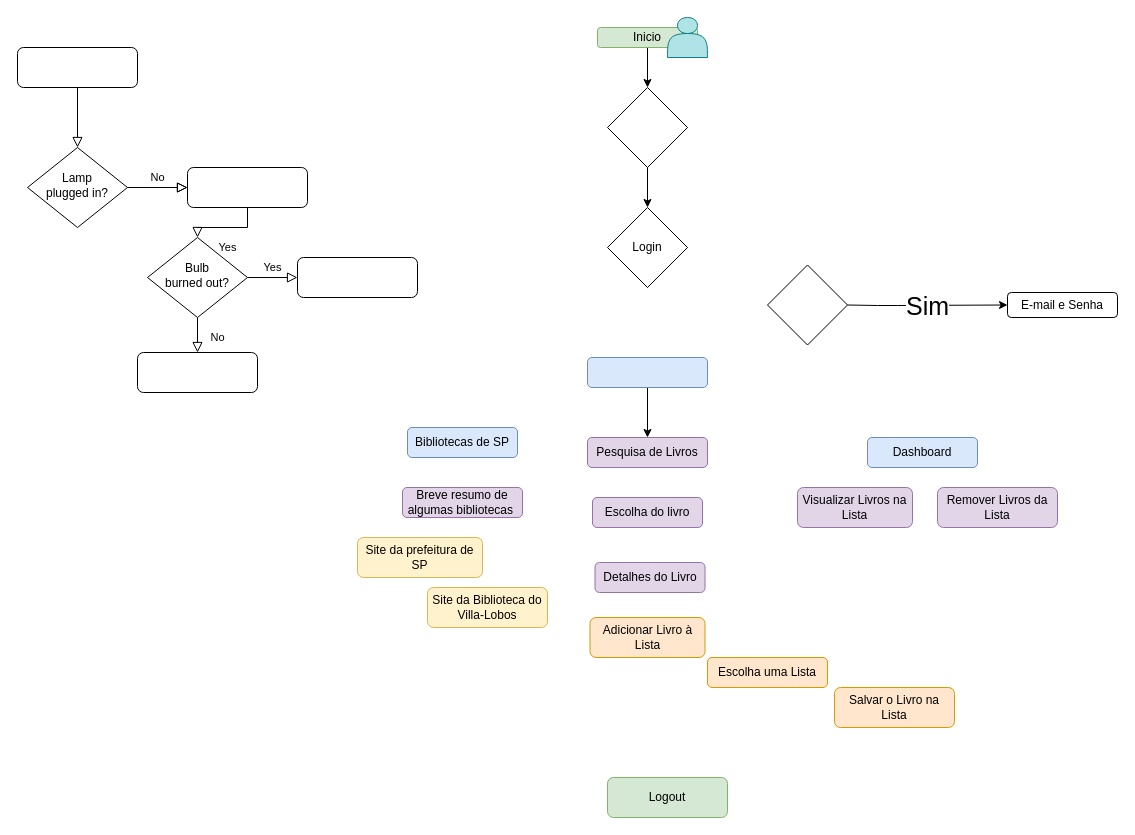
Image size: 1135x835. Some labels were removed from this diagram. Each missing label, with the centre of its shape:
Alterar Cadastro: the point at 807,304
Cadastro: the point at 647,127
Lamp doesn't work: the point at 77,67
Plug in lamp: the point at 247,187
Página Inicial: the point at 647,372
Repair Lamp: the point at 197,372
Replace Bulb: the point at 357,277
